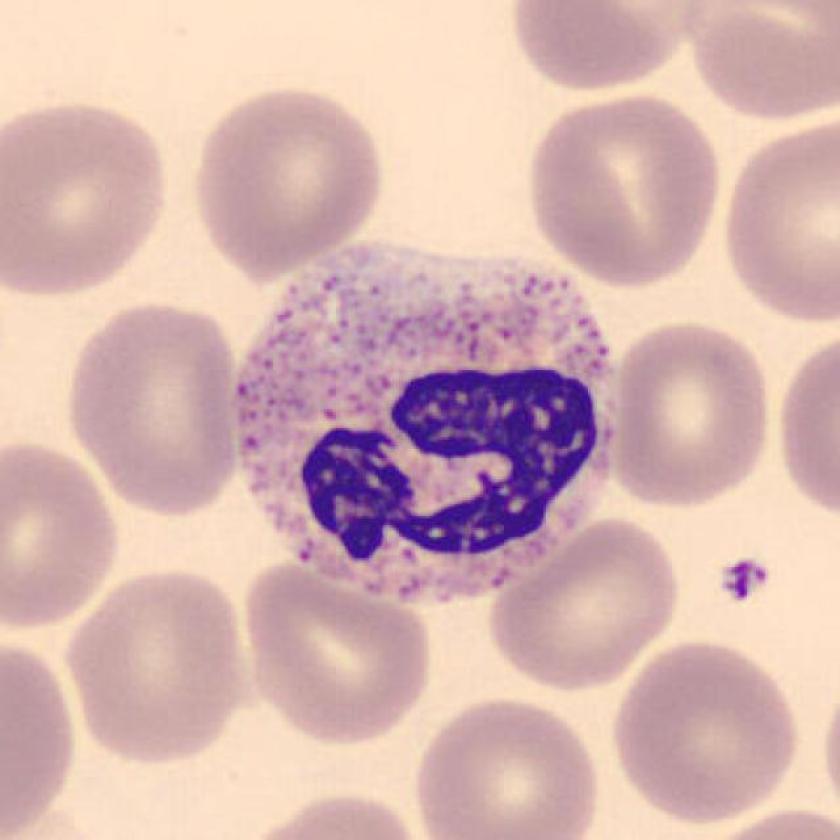neutrophil: (237, 245, 615, 604)
